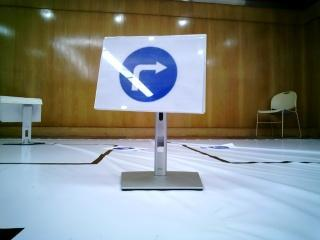right: (105, 37, 205, 117)
